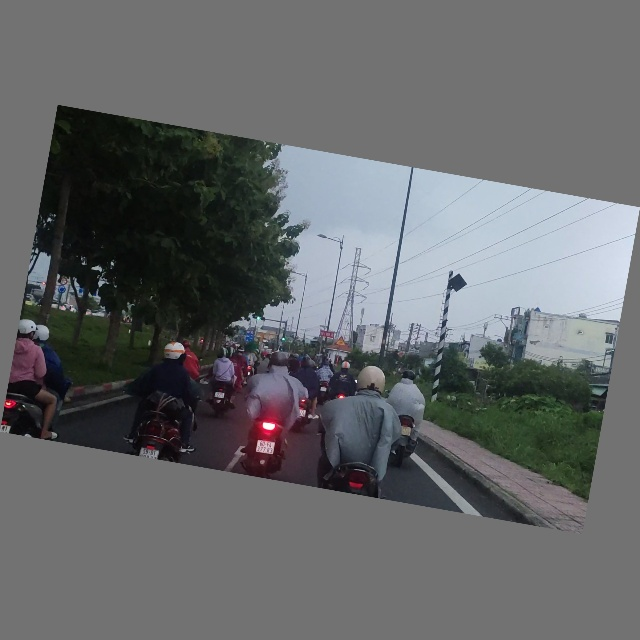W.210: (335, 335, 347, 347)
